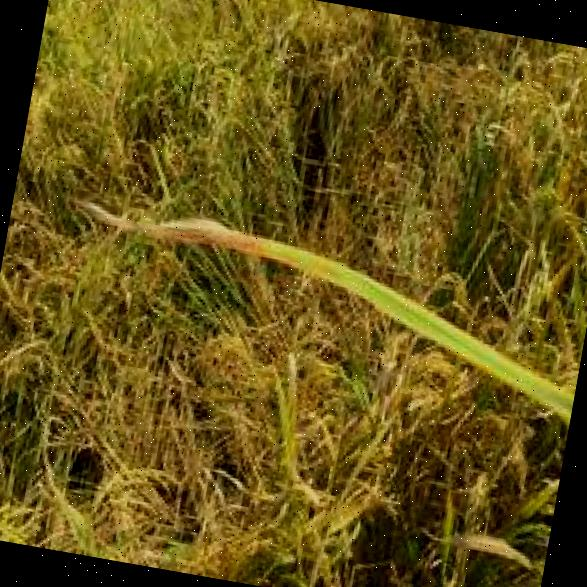Bacteria_Leaf_Blight: (52, 151, 456, 342)
